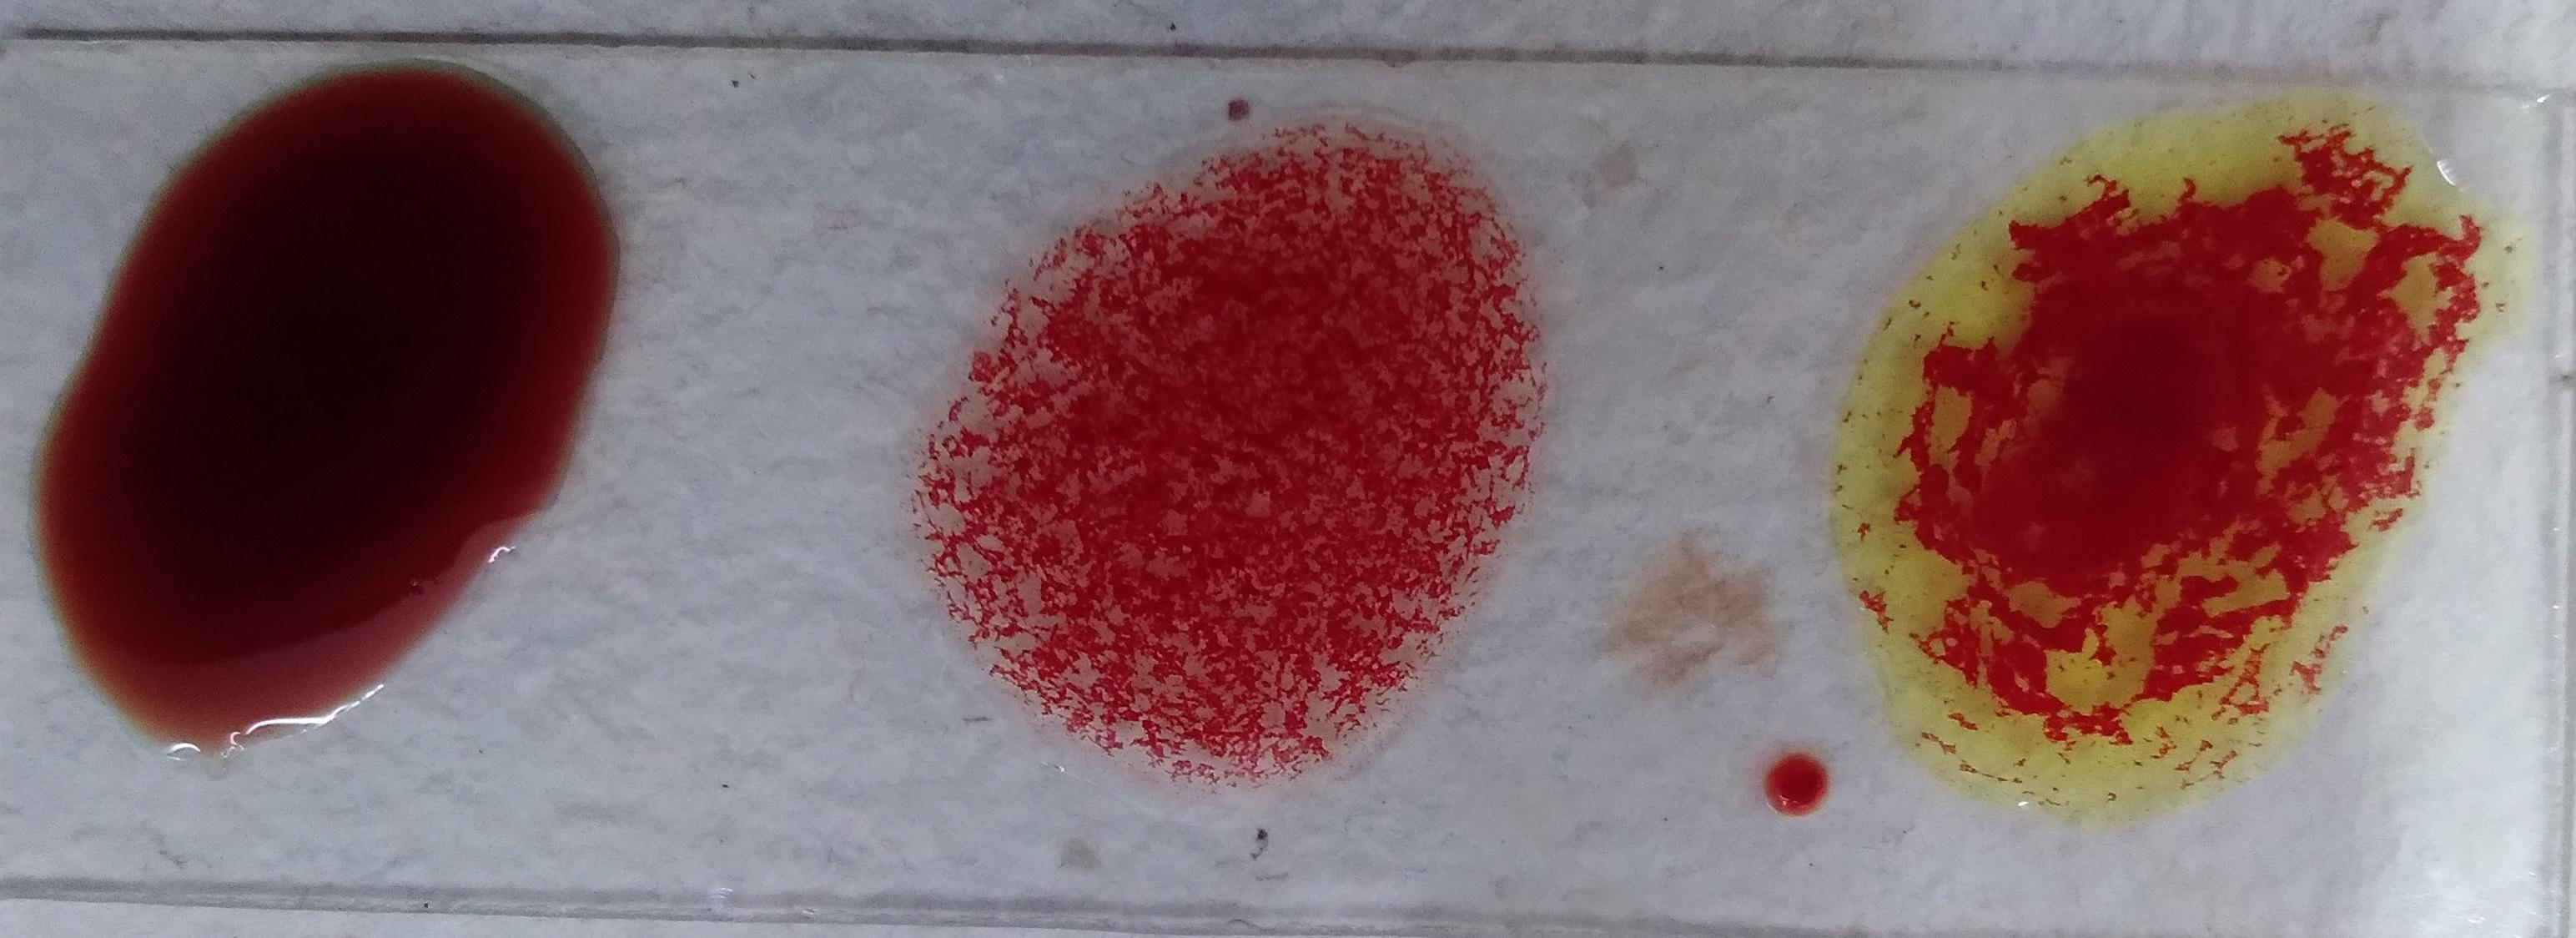B: (103, 136, 747, 807)
D: (1045, 131, 1663, 826)
